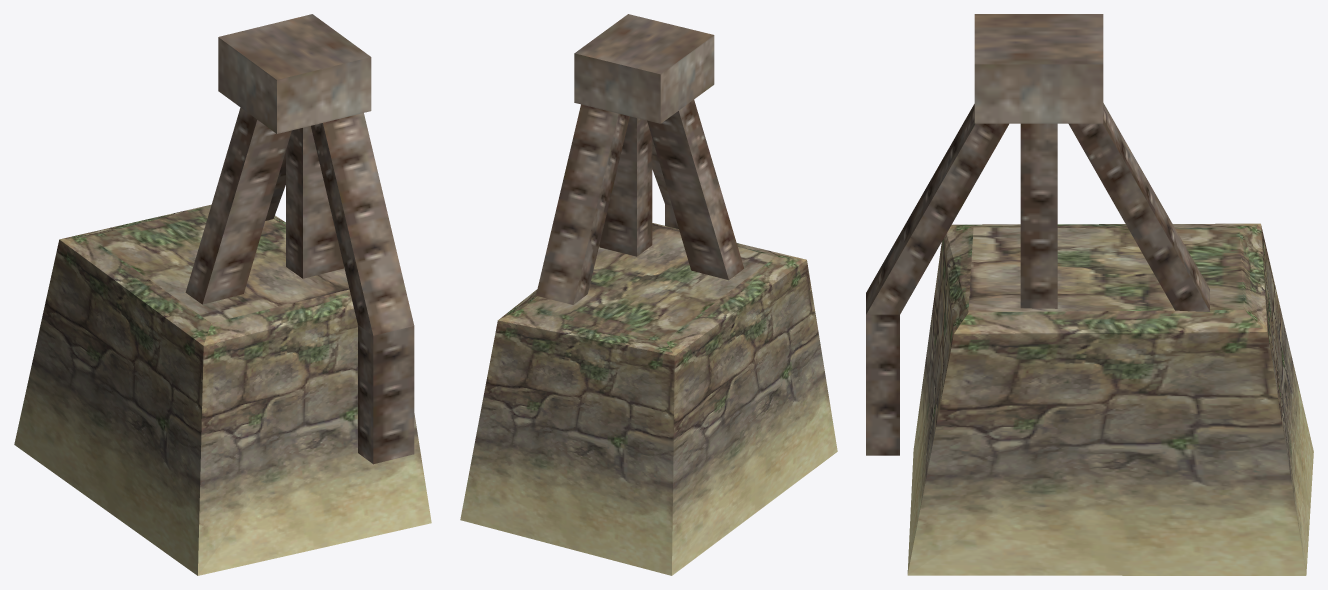
Rendered from C3SMBDGMET_ENDL.obj.
3 views of the same model, side by side, from view 1: azimuth 30°, elevation 25°; view 2: azimuth 150°, elevation 25°; view 3: azimuth 270°, elevation 25° (orthographic). The views are drawn at different scales.
Visible parts, largest first — view 1: Node 0; view 2: Node 0; view 3: Node 0.
Part boxes in pixels (bbox=[...]): Node 0: bbox=[14, 14, 431, 575]; Node 0: bbox=[460, 14, 837, 575]; Node 0: bbox=[866, 14, 1313, 575].
Size of the model in its own units: 5.95 by 10.94 by 8.96.
2 materials, 2 textured.
